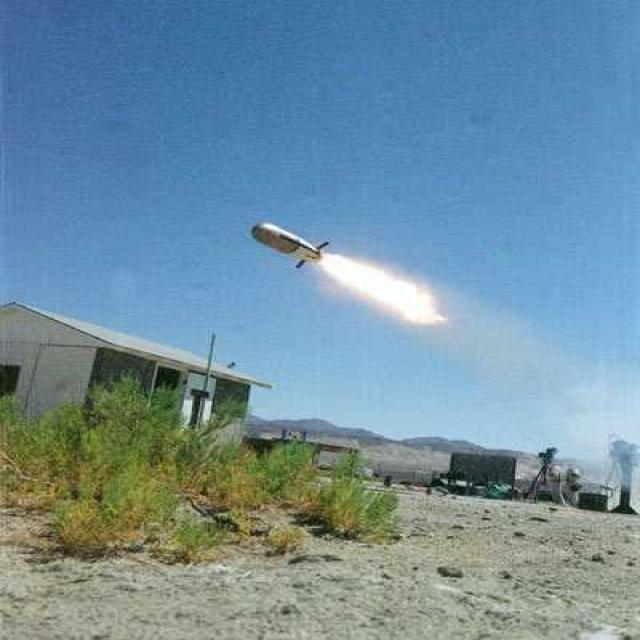missile: (248, 220, 331, 276)
